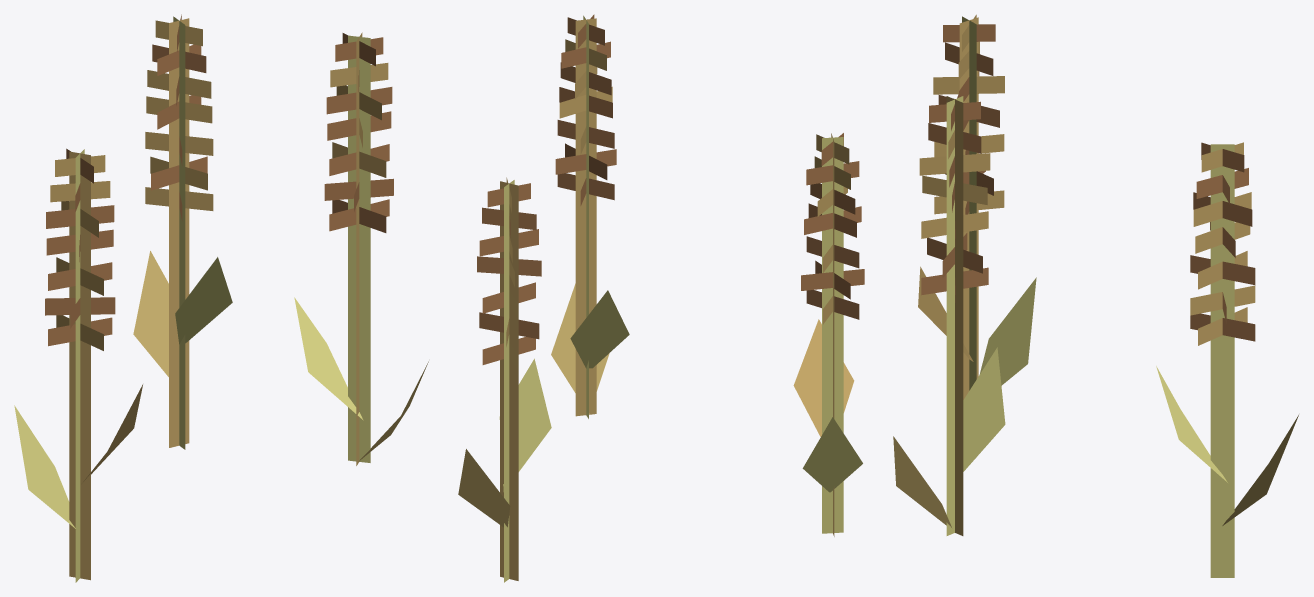
File: flowers_3.gltf
3 views of the same model, side by side, from view 1: azimuth 30°, elevation 25°; view 2: azimuth 150°, elevation 25°; view 3: azimuth 270°, elevation 25° (orthographic). The views are drawn at different scales.
Parts seen in each view (by area): view 1: plane (×37); view 2: plane (×31); view 3: plane (×33).
Boxes of the visible parts, left/top/right/bottom form: plane (×37): left=14, top=16, right=393, bottom=582; plane (×31): left=458, top=15, right=864, bottom=582; plane (×33): left=893, top=16, right=1298, bottom=577.
Size of the model in its own units: 0.5517 by 0.725 by 0.5311.
Materials: 1 (1 with a texture image).
